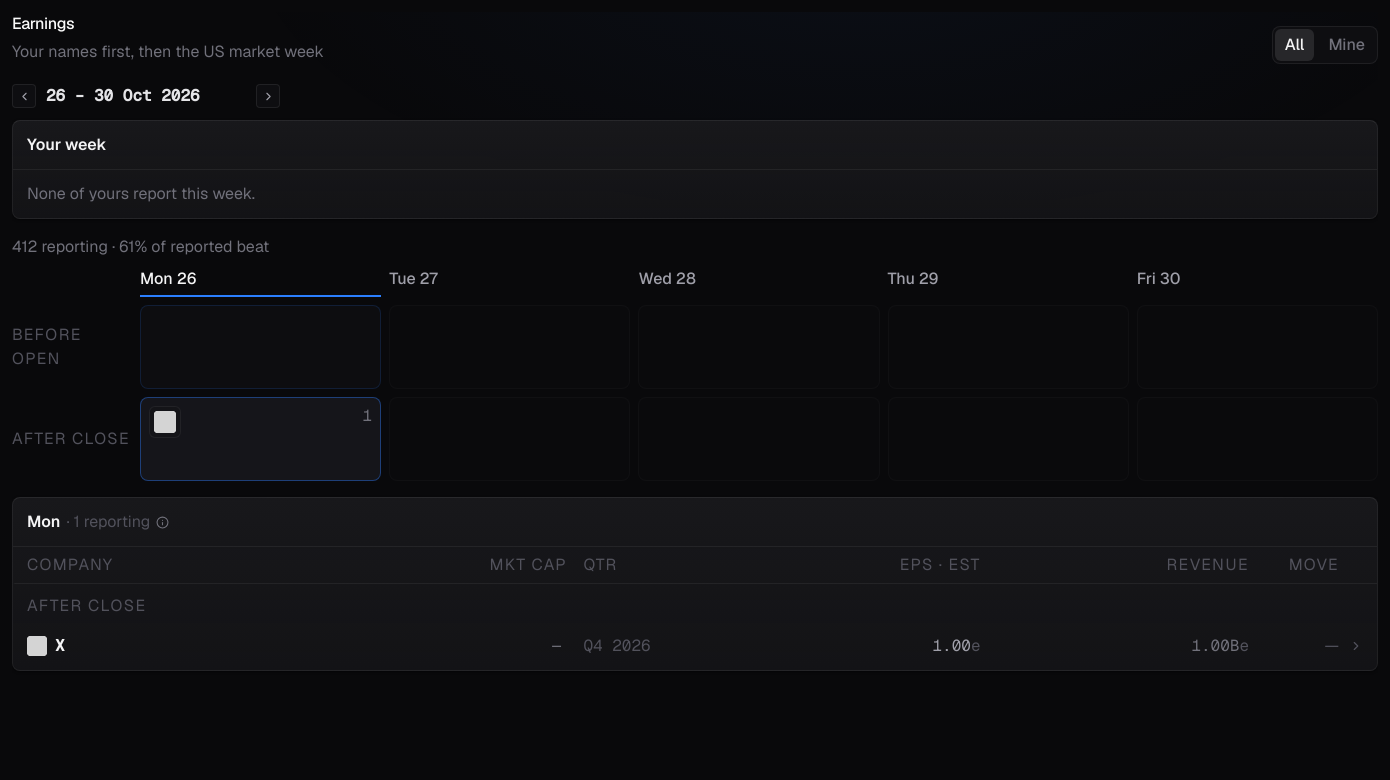
it: Earnings page › shows no market line in Mine scope
Expected: the text "412 reporting · 61% of reported beat" is shown, [12,236,269,257]
Click the button "Mine": (1347, 45) [1318,29,1375,61]
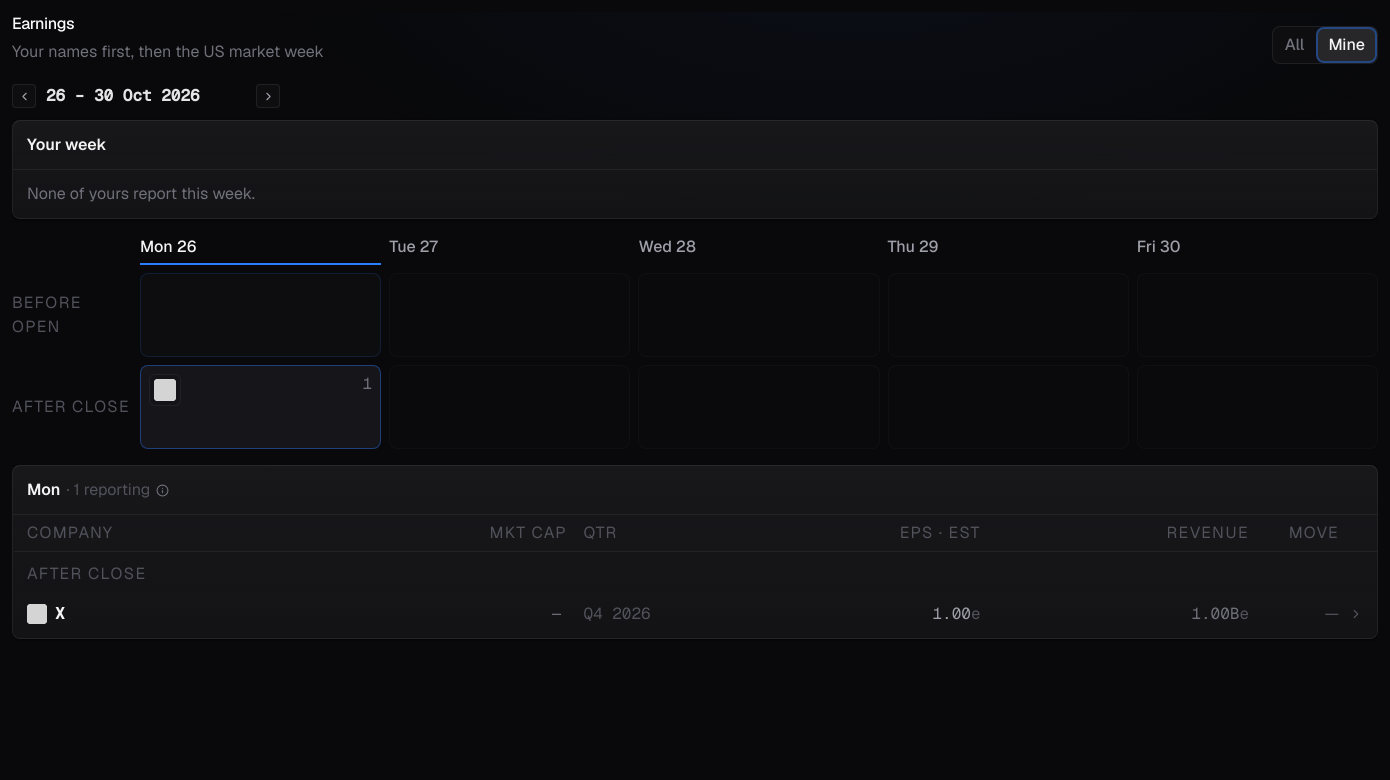
Expected: the text "412 reporting" is gone
